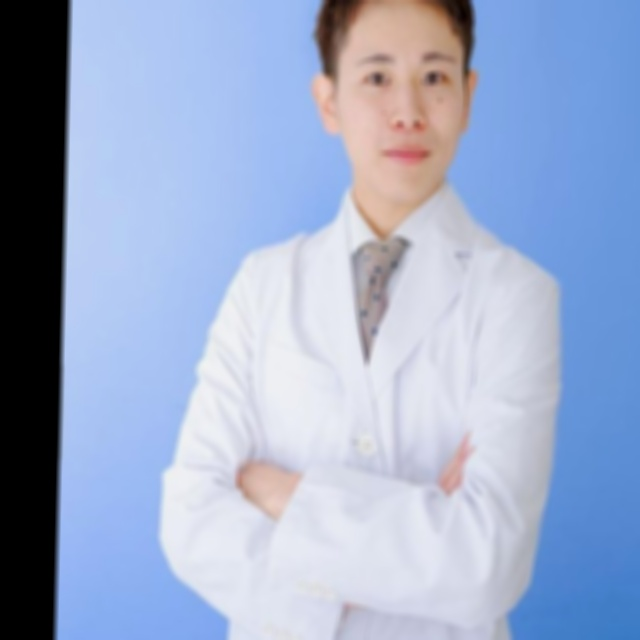Sin_Casco_Mascarrilla: (307, 0, 483, 198)
Sin_Chaleco: (230, 199, 563, 640)
